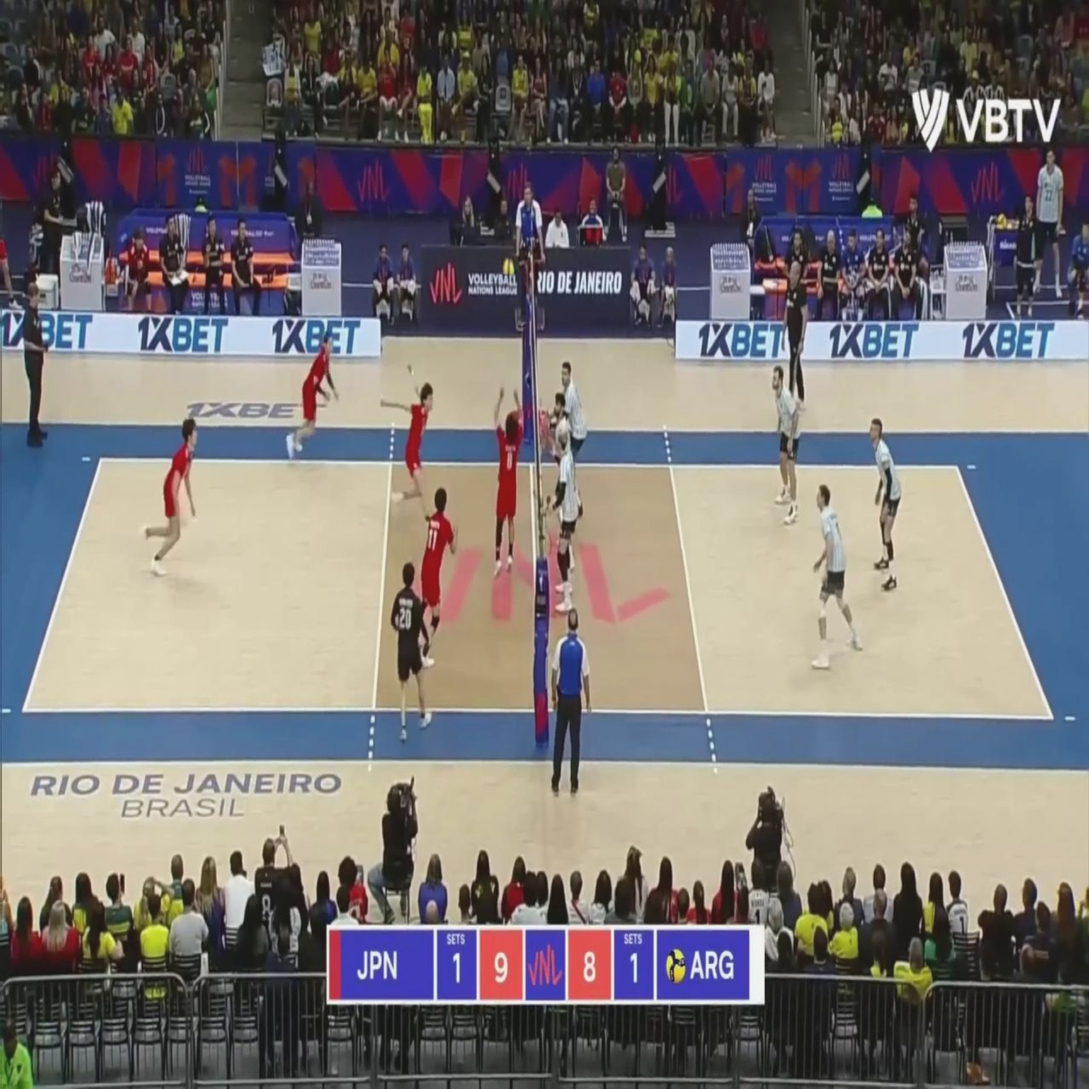ball: (504, 260, 515, 277)
